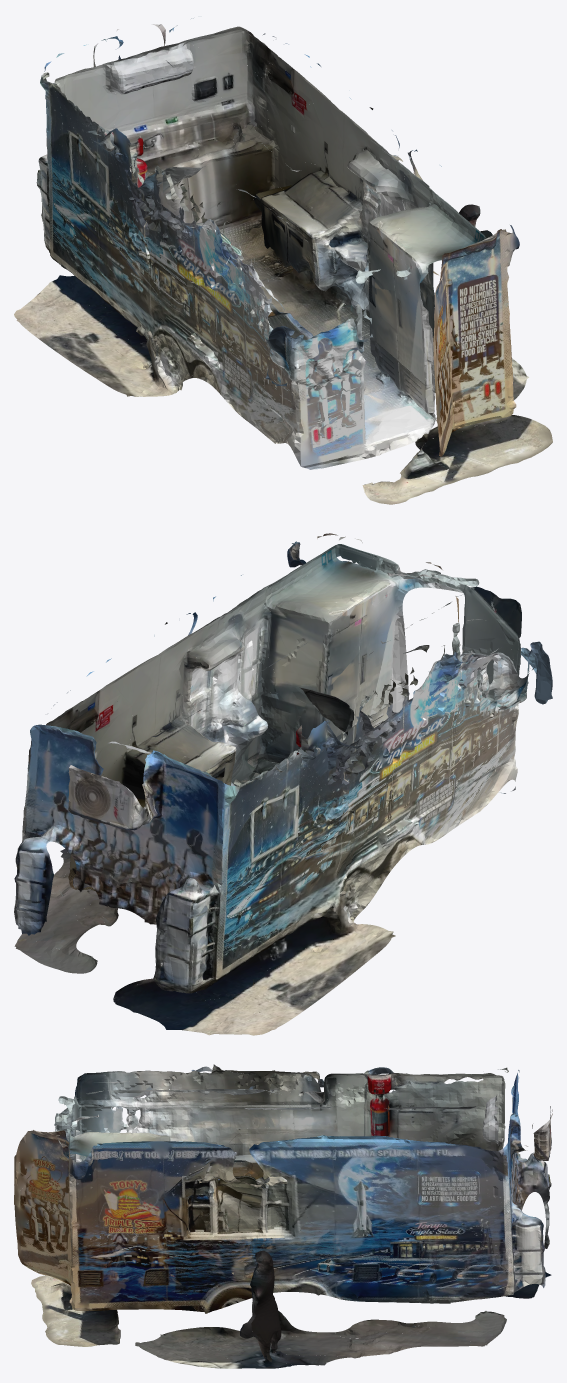
The model's file is trailer-optimized.glb.
3 renders of one model, top to bottom at view 1: azimuth 30°, elevation 25°; view 2: azimuth 150°, elevation 25°; view 3: azimuth 270°, elevation 25°, orthographic. The views are drawn at different scales.
Bounding box in the file's own units: 4.39 × 3.16 × 7.47.
Materials: 3 (3 with a texture image).
